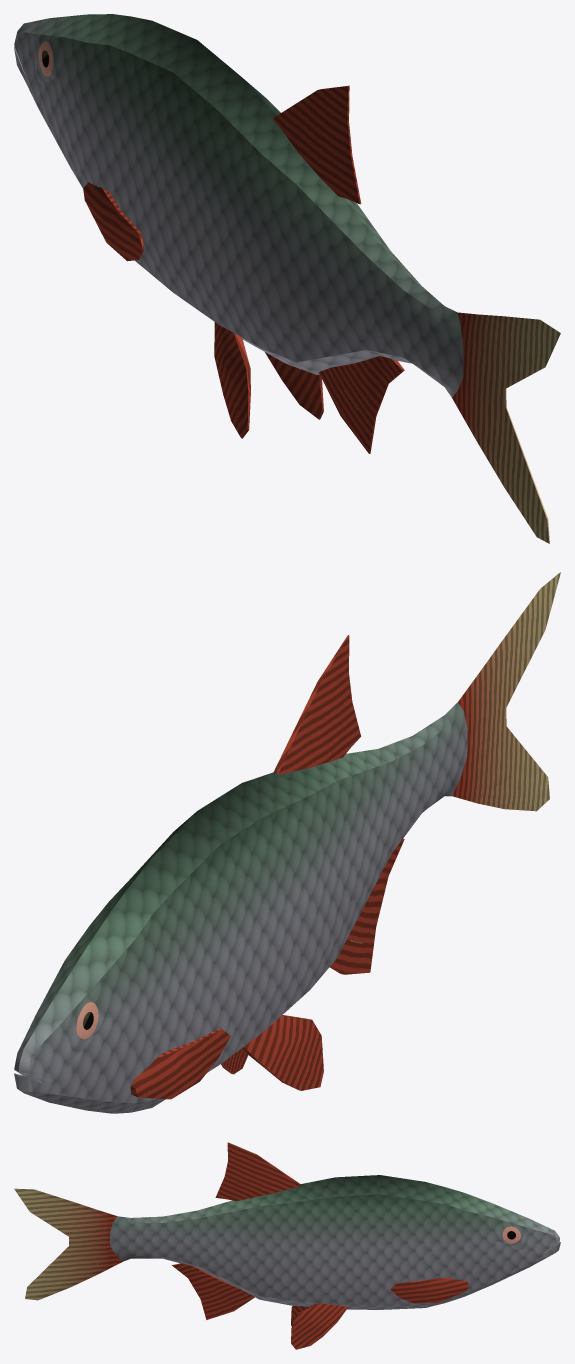
File: wzdrega.fbx
The picture shows the model from 3 angles, top to bottom: view 1: azimuth 30°, elevation 25°; view 2: azimuth 150°, elevation 25°; view 3: azimuth 270°, elevation 25°; orthographic projection. The views are drawn at different scales.
Parts seen in each view (by area): view 1: wzdrega; view 2: wzdrega; view 3: wzdrega.
Part boxes in pixels (x1,y1,x2,y2): wzdrega: [14, 14, 560, 543]; wzdrega: [14, 572, 560, 1113]; wzdrega: [14, 1142, 560, 1349].
Size of the model in its own units: 90.38 by 384 by 961.
